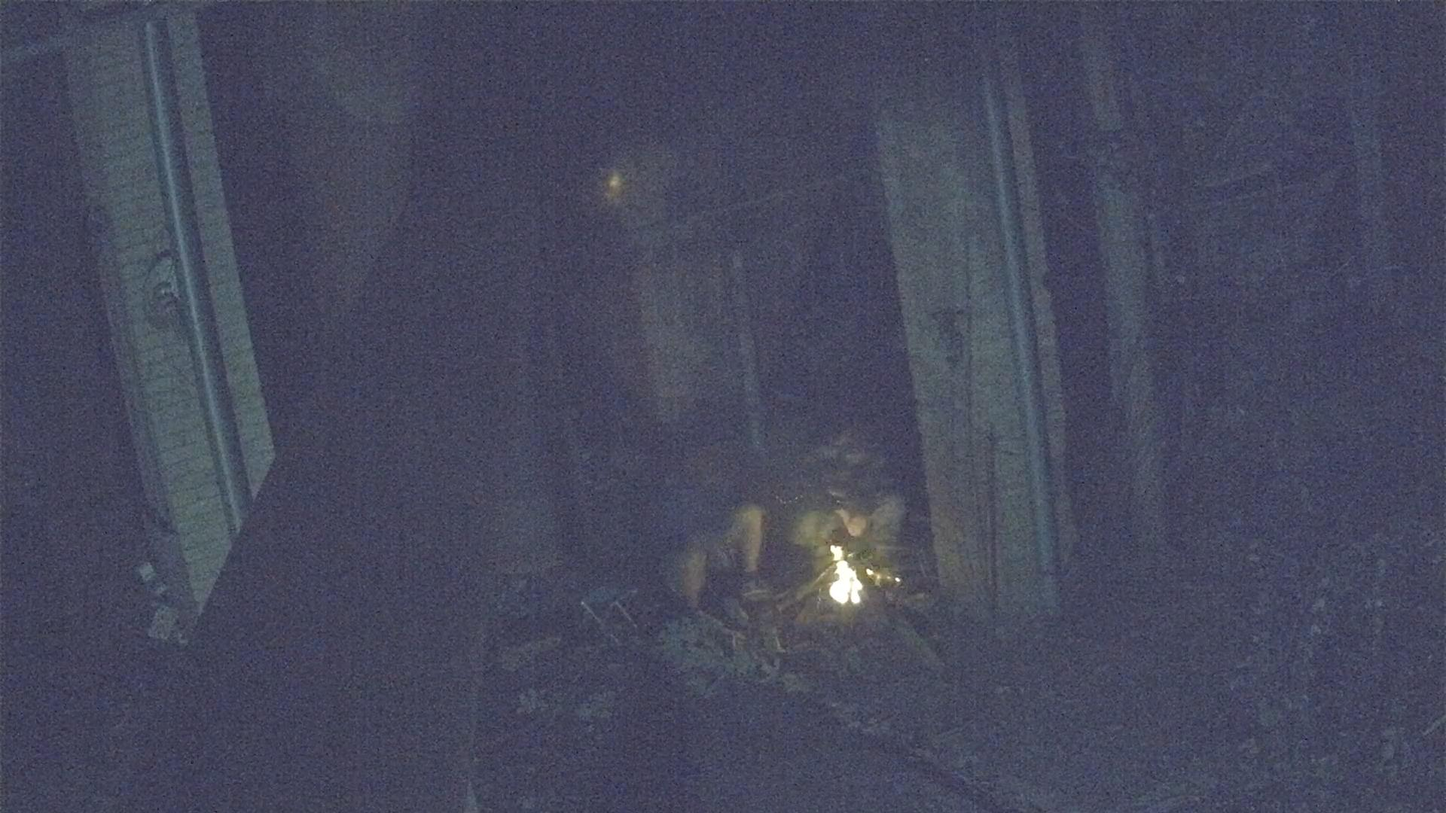fire: (829, 544, 862, 604)
